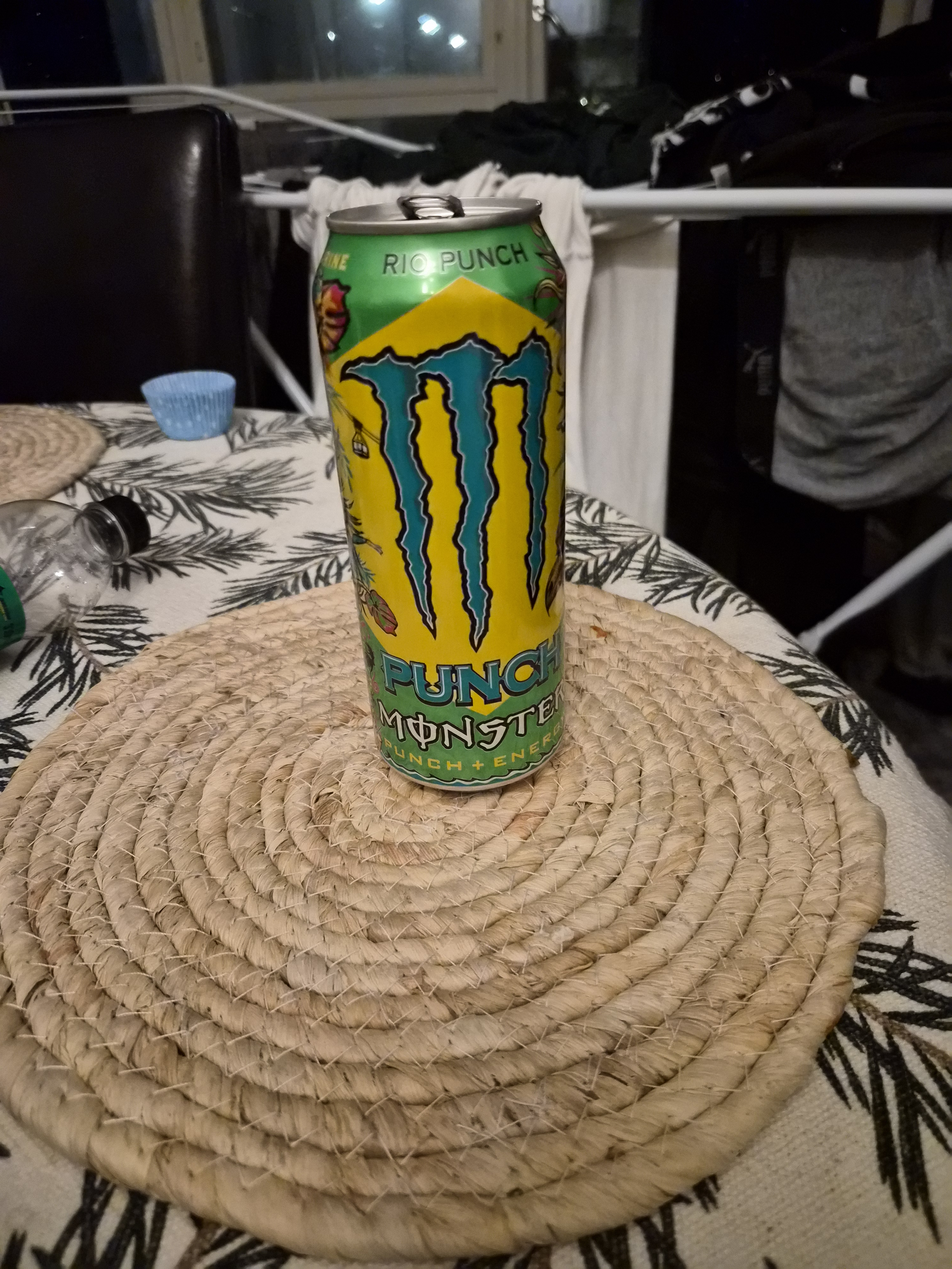Pantburk: (304, 183, 568, 793)
